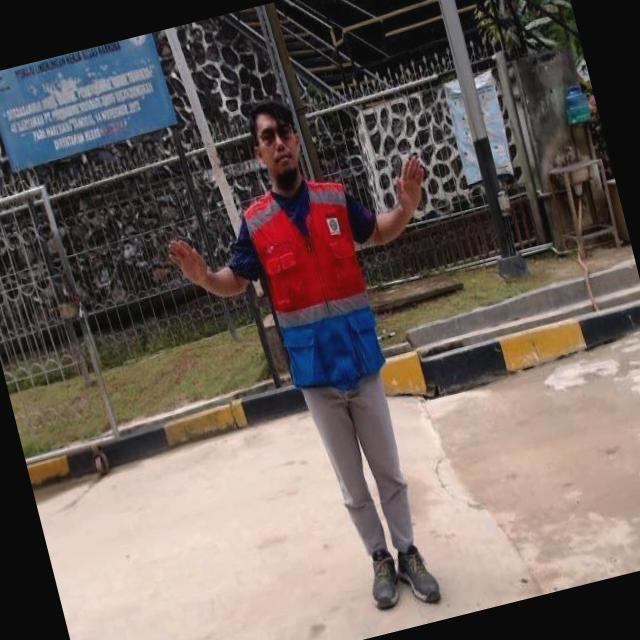vest: (235, 167, 392, 396)
